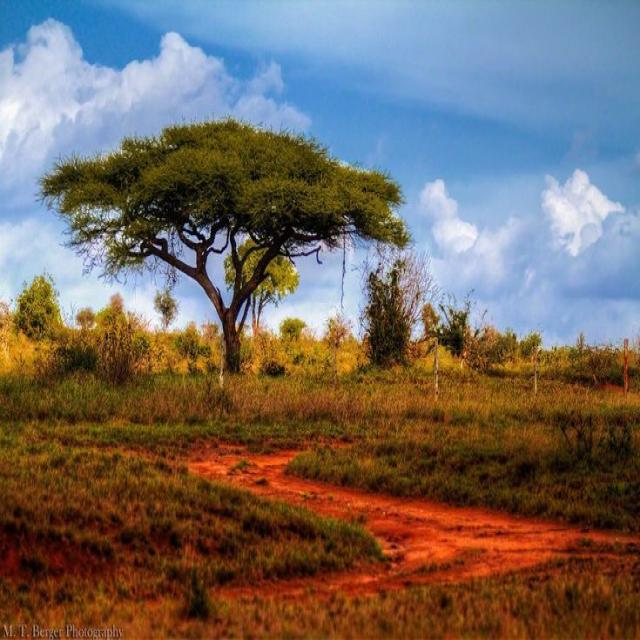Acacia: (52, 129, 400, 356)
